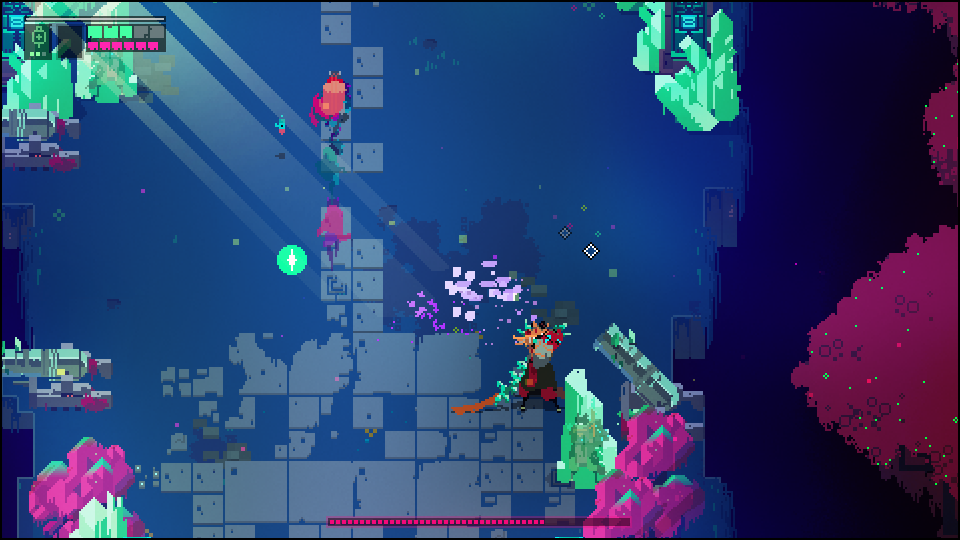hanged_man: (491, 315, 573, 418)
hanged_shot: (274, 241, 311, 277)
player: (315, 68, 348, 119)
